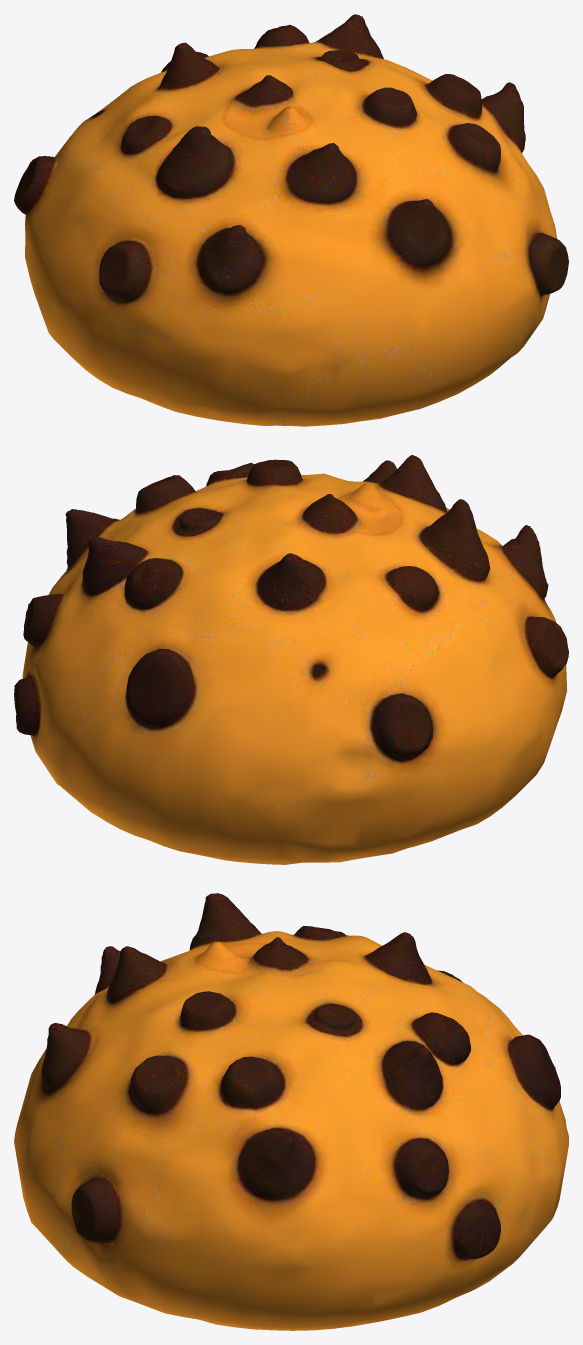
Rendered from bonuscookie.glb.
3 renders of one model, top to bottom at view 1: azimuth 30°, elevation 25°; view 2: azimuth 150°, elevation 25°; view 3: azimuth 270°, elevation 25°, orthographic. The views are drawn at different scales.
Bounding box in the file's own units: 1.91 × 1.22 × 1.88.
Materials: 1 (1 with a texture image).
